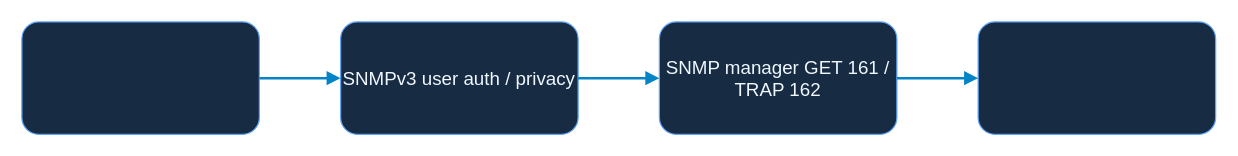
The diagram is 1238 pixels wide and 156 high, and some of its shapes have lost their labels. Here are the shapes that lost their labels. From the top down, the box of each, then its label:
(21, 21, 259, 134): FortiAnalyzer SNMP agent + events
(977, 21, 1216, 134): MIB decoder enterprise OIDs
